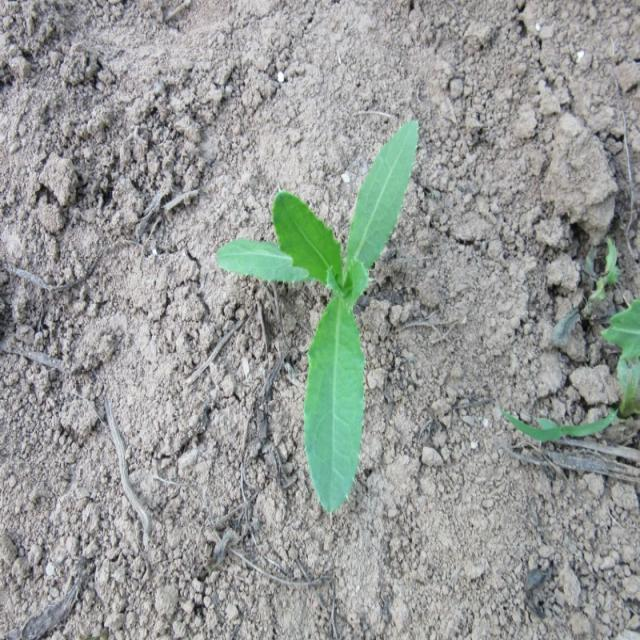cs: (214, 122, 419, 512)
